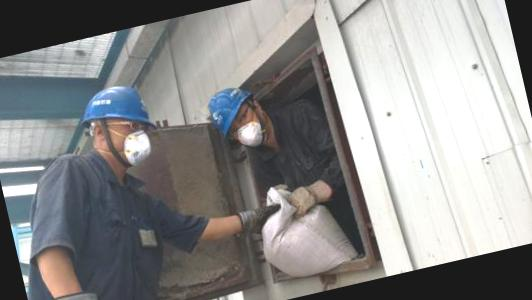person: (1, 68, 244, 300), (194, 57, 368, 290)
